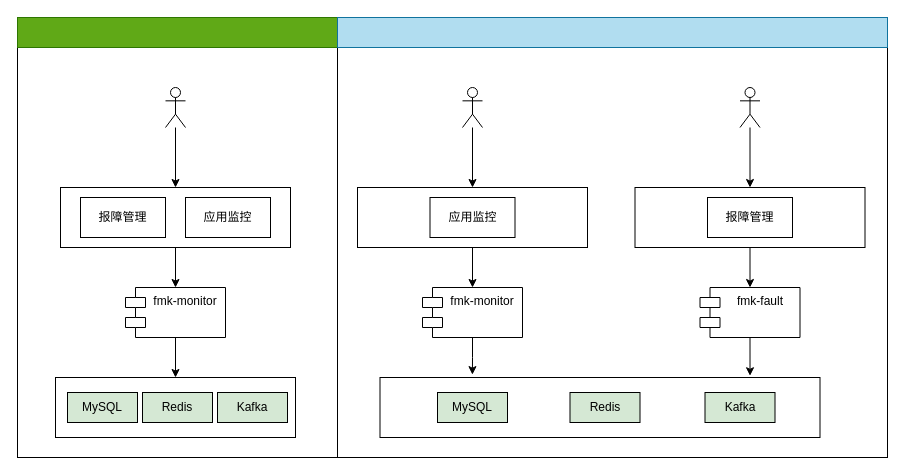
Image size: 905x475. Some labels were removed from this diagram. The box of each missing label's shape, as (x1, y1, x2, y2) in pixels:
现状: (16, 16, 338, 48)
目标: (336, 16, 888, 48)
